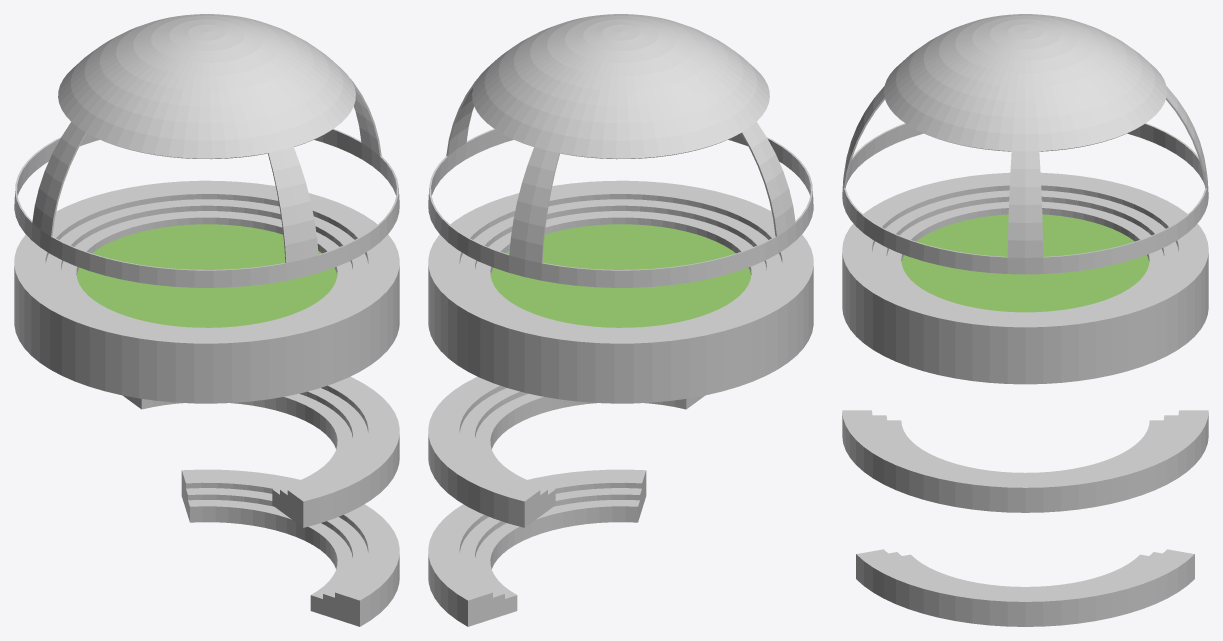
The model's file is dome_5.fbx.
The picture shows the model from 3 angles, left to right: view 1: azimuth 30°, elevation 25°; view 2: azimuth 150°, elevation 25°; view 3: azimuth 270°, elevation 25°; orthographic projection. The views are drawn at different scales.
Visible parts, largest first — view 1: dome_roof, dome, grass, dome_cutted, dome_half; view 2: dome_roof, dome, grass, dome_cutted, dome_half; view 3: dome, dome_roof, dome_half, dome_cutted, grass.
Boxes of the visible parts, left/top/right/bottom form: dome_roof: left=14, top=14, right=399, bottom=287; dome: left=14, top=180, right=399, bottom=403; grass: left=76, top=224, right=337, bottom=327; dome_cutted: left=181, top=469, right=399, bottom=626; dome_half: left=122, top=376, right=399, bottom=527; dome_roof: left=428, top=14, right=813, bottom=287; dome: left=428, top=180, right=813, bottom=403; grass: left=490, top=224, right=751, bottom=327; dome_cutted: left=428, top=469, right=646, bottom=626; dome_half: left=428, top=376, right=705, bottom=527; dome: left=842, top=172, right=1208, bottom=384; dome_roof: left=842, top=14, right=1208, bottom=274; dome_half: left=842, top=410, right=1208, bottom=512; dome_cutted: left=856, top=549, right=1194, bottom=626; grass: left=901, top=214, right=1149, bottom=312.
Bounding box in the file's own units: 200 × 312 × 200.
